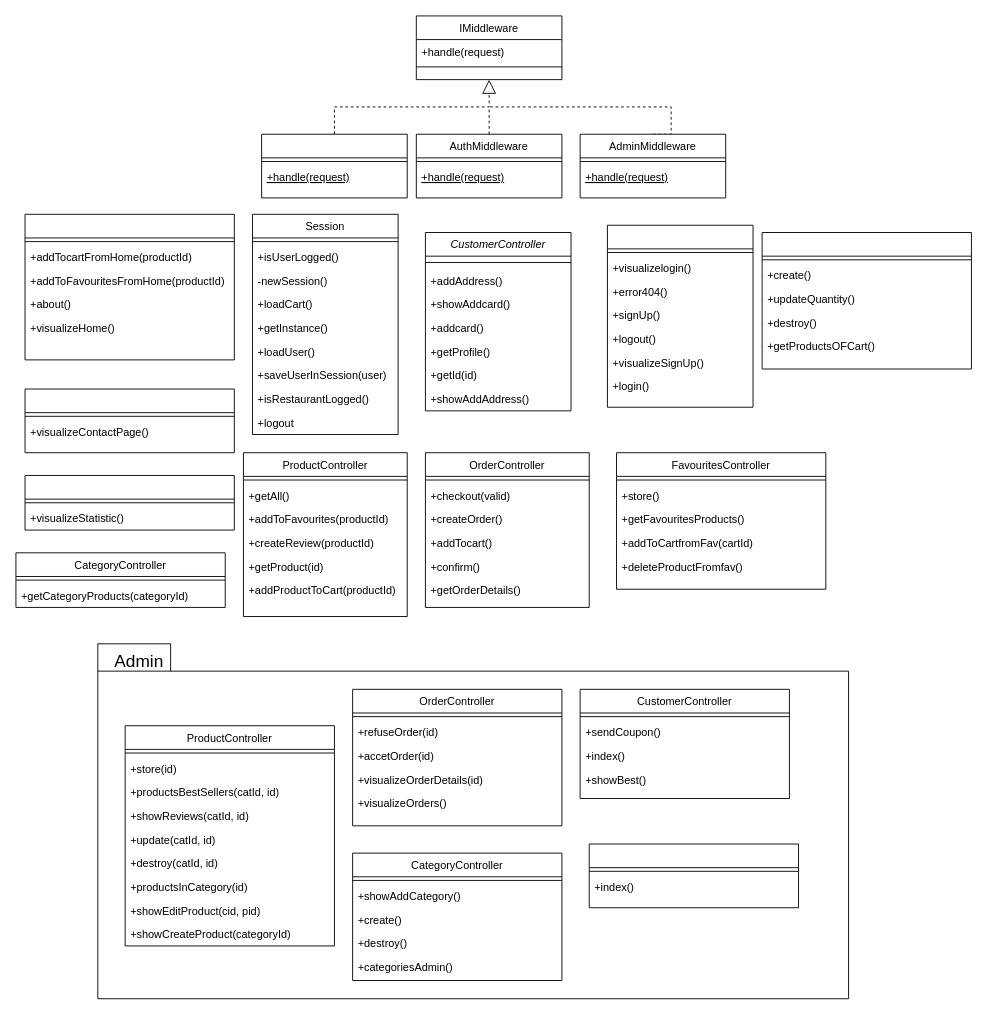
The diagram is 987 pixels wide and 1015 high, and some of its shapes have lost their labels. Each missing label, with the box of its shape:
AuthController: (607, 224, 753, 407)
CartController: (761, 232, 971, 369)
CouponController: (588, 843, 799, 908)
HomePageController: (24, 213, 234, 360)
OrderMiddleware: (261, 133, 407, 198)
RestaurantController: (24, 388, 234, 453)
StatisticController: (24, 475, 234, 530)
